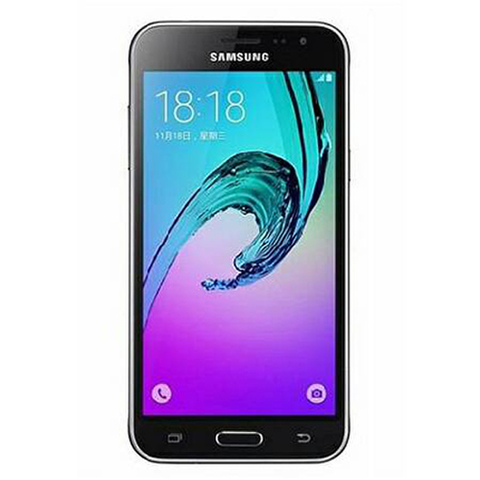Handphone: (124, 17, 354, 467)
